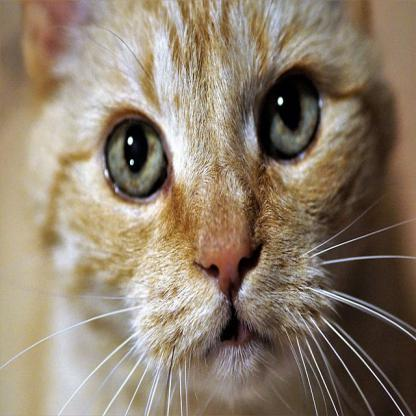cat: (21, 2, 395, 403)
